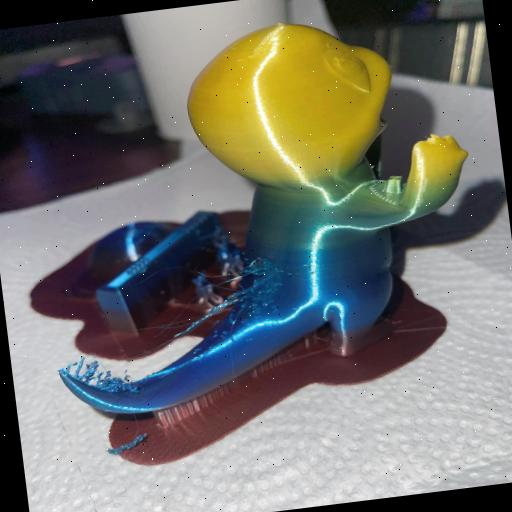stringing: (168, 264, 280, 335), (66, 353, 136, 397)
